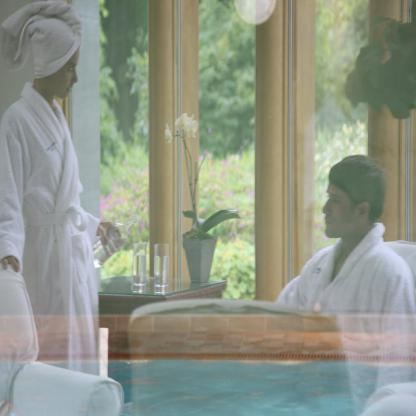face: (322, 180, 358, 237), (53, 41, 81, 99)
